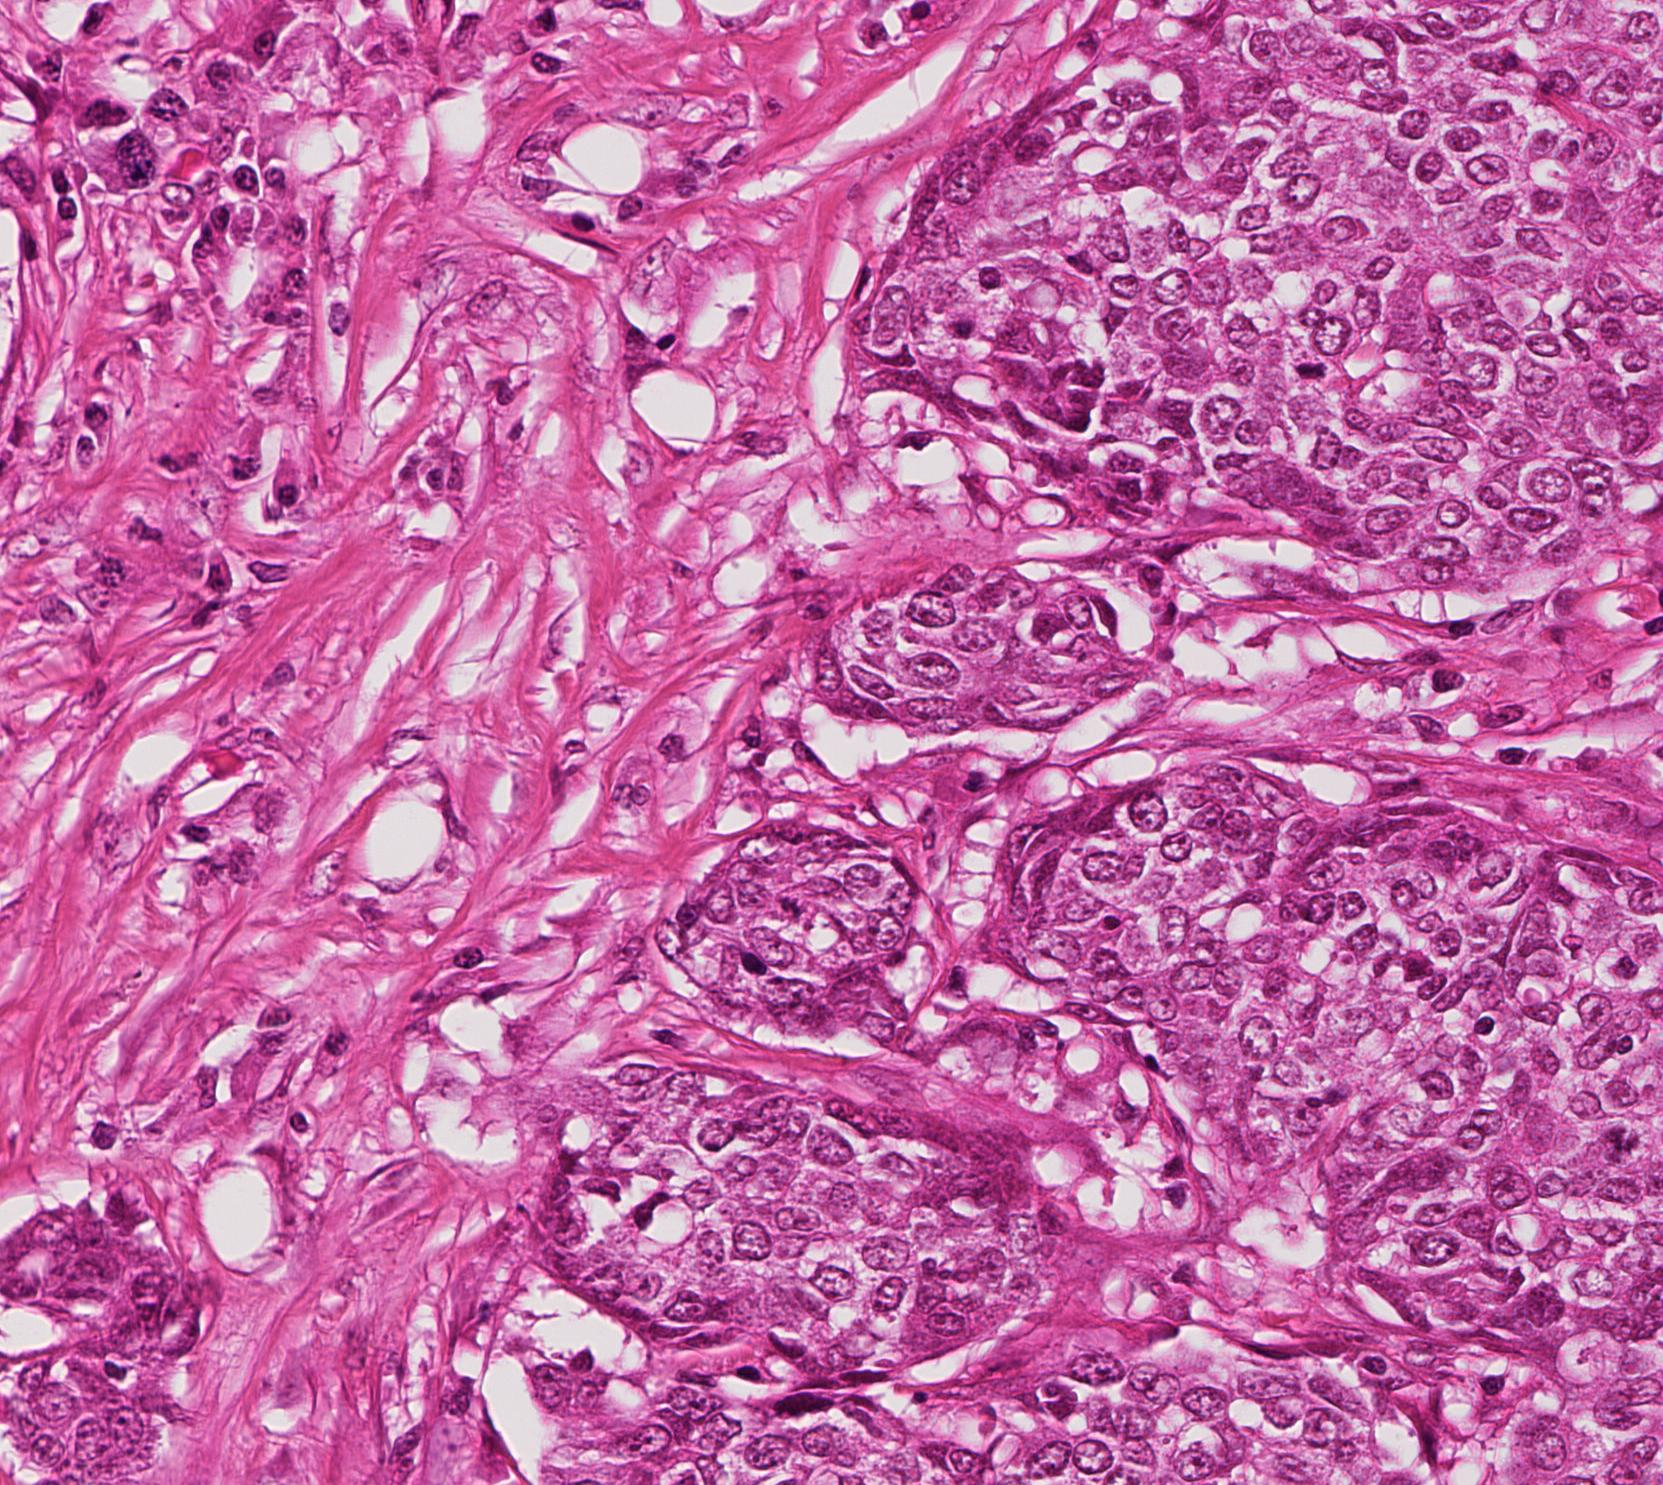mitosis: (1285, 331, 1345, 391)
